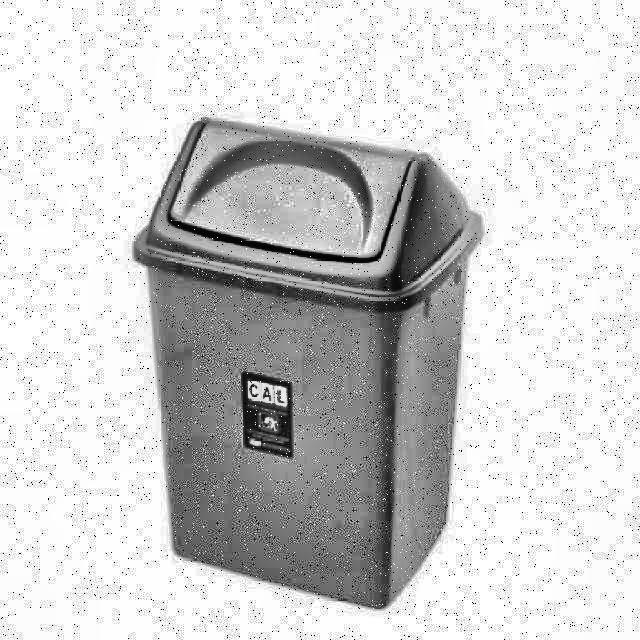Dustbin: (126, 108, 497, 630)
